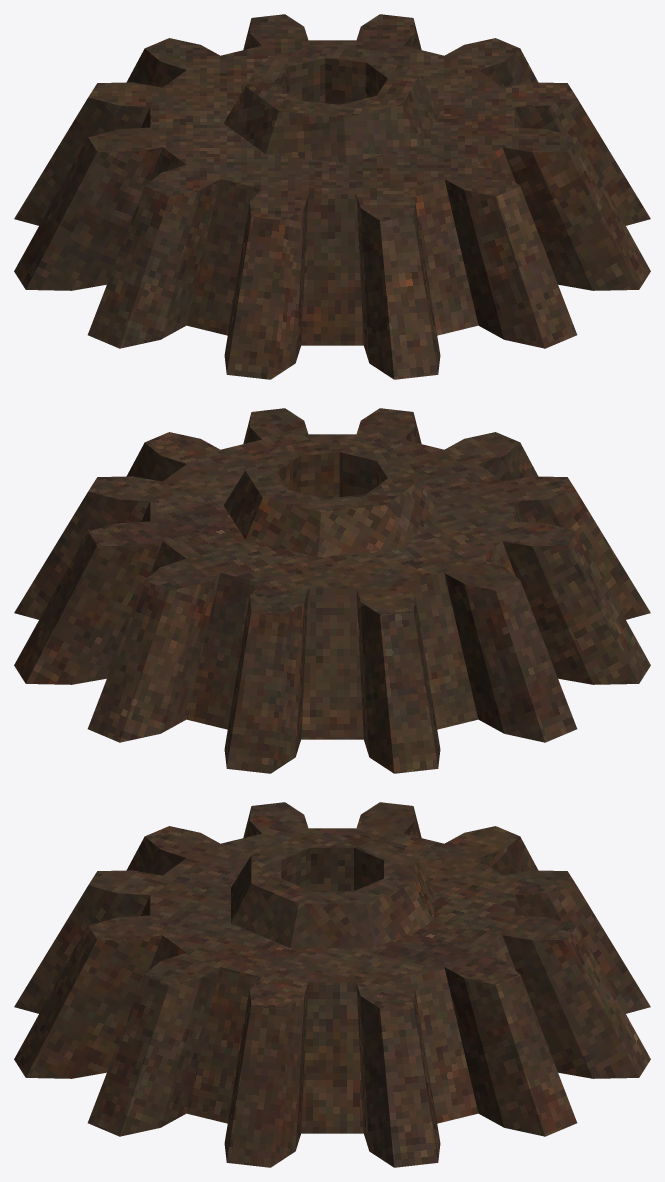
Rendered from gear_mx_1.glb.
3 views of the same model, one above another, from view 1: azimuth 30°, elevation 25°; view 2: azimuth 150°, elevation 25°; view 3: azimuth 270°, elevation 25° (orthographic).
Parts seen in each view (by area): view 1: gear_mx_1; view 2: gear_mx_1; view 3: gear_mx_1.
Boxes of the visible parts, bbox=[...] form: gear_mx_1: bbox=[14, 14, 650, 379]; gear_mx_1: bbox=[14, 408, 650, 773]; gear_mx_1: bbox=[14, 802, 650, 1167].
Size of the model in its own units: 0.289 by 0.1 by 0.289.
Materials: 1 (1 with a texture image).
